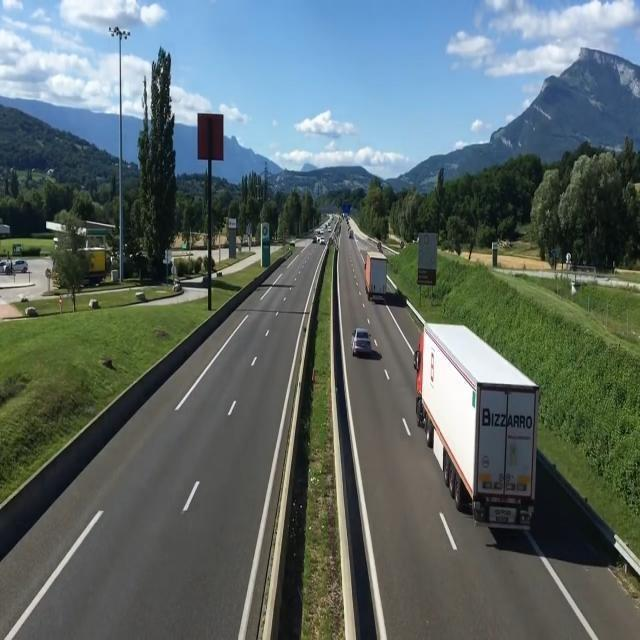Car: (351, 328, 373, 355)
Truck: (412, 322, 538, 530), (363, 251, 388, 301)
